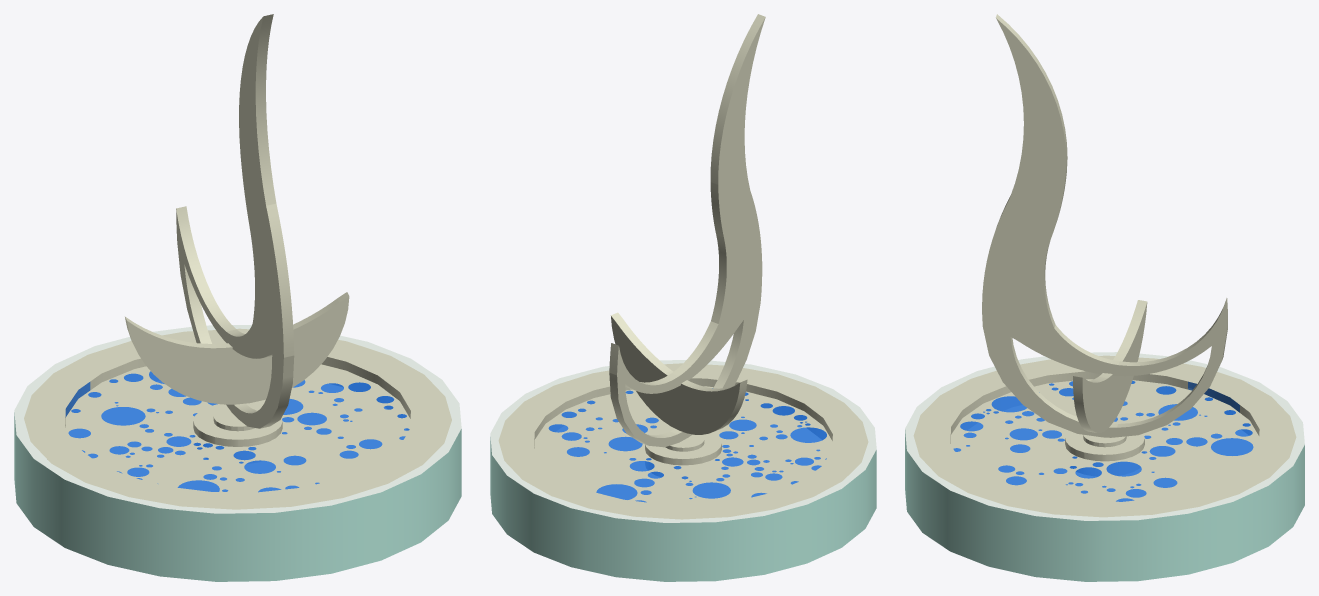
Rendered from whole.fbx.
3 renders of one model, left to right at view 1: azimuth 30°, elevation 25°; view 2: azimuth 150°, elevation 25°; view 3: azimuth 270°, elevation 25°, orthographic. The views are drawn at different scales.
Parts seen in each view (by area): view 1: Model, Group2, Group1; view 2: Model, Group2, Group1; view 3: Model, Group2, Group1.
Part boxes in pixels (x1,y1,x2,y2): Model: [14, 325, 461, 581]; Group2: [176, 14, 294, 428]; Group1: [125, 292, 349, 404]; Model: [490, 360, 876, 581]; Group2: [609, 14, 765, 447]; Group1: [611, 312, 747, 434]; Model: [905, 352, 1304, 581]; Group2: [982, 14, 1227, 437]; Group1: [1073, 300, 1147, 432].
Bounding box in the file's own units: 251 × 325 × 251.
